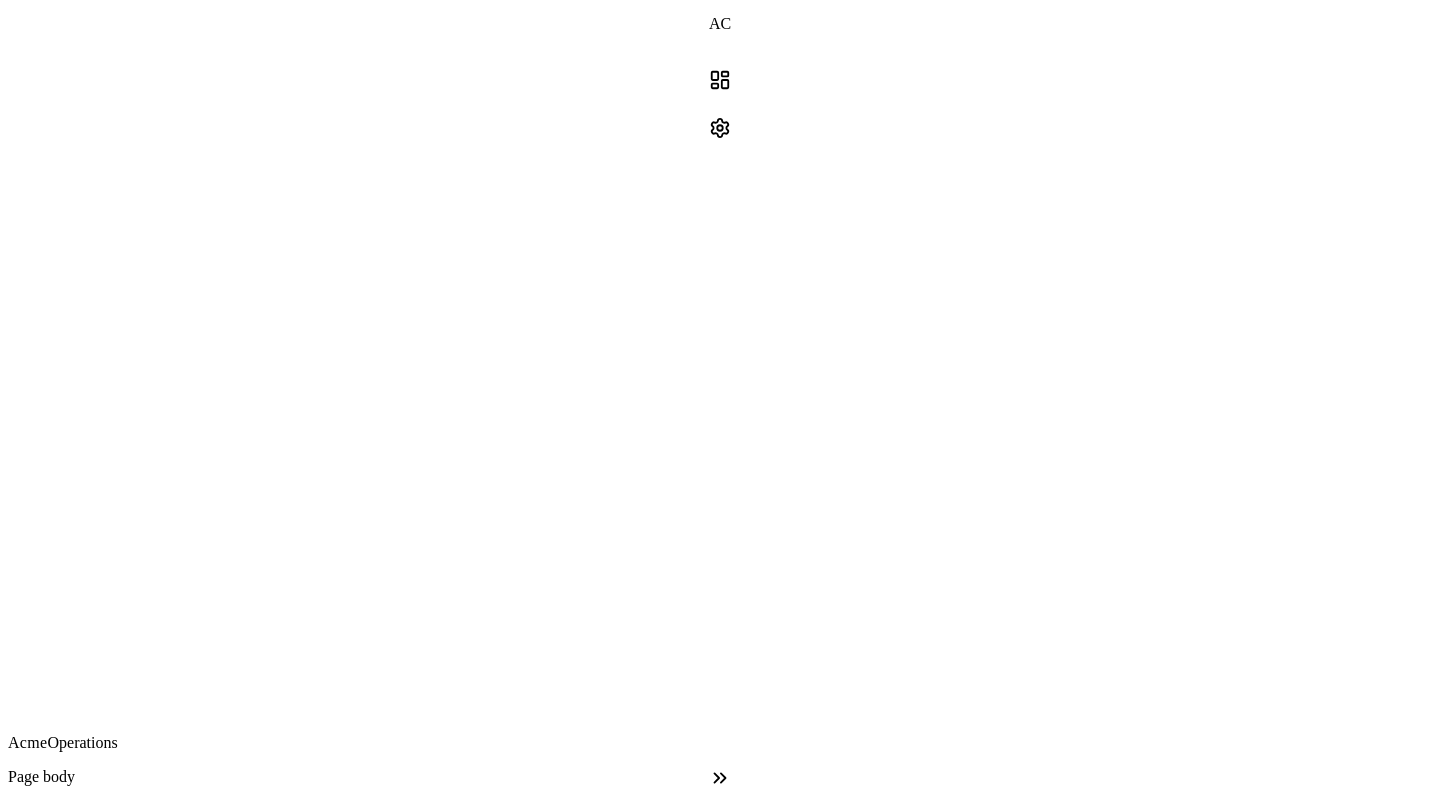
Scenario: RailShell (en) › the rail-width toggle › starts icon-only; the toggle labels the rail buttons and switches to an inline panel
(page scrolled)
Expected: the text "Planning" is not shown
Click the button named "Expand the navigation" at [720, 778], box [8,754,1432,802]
(page scrolled)
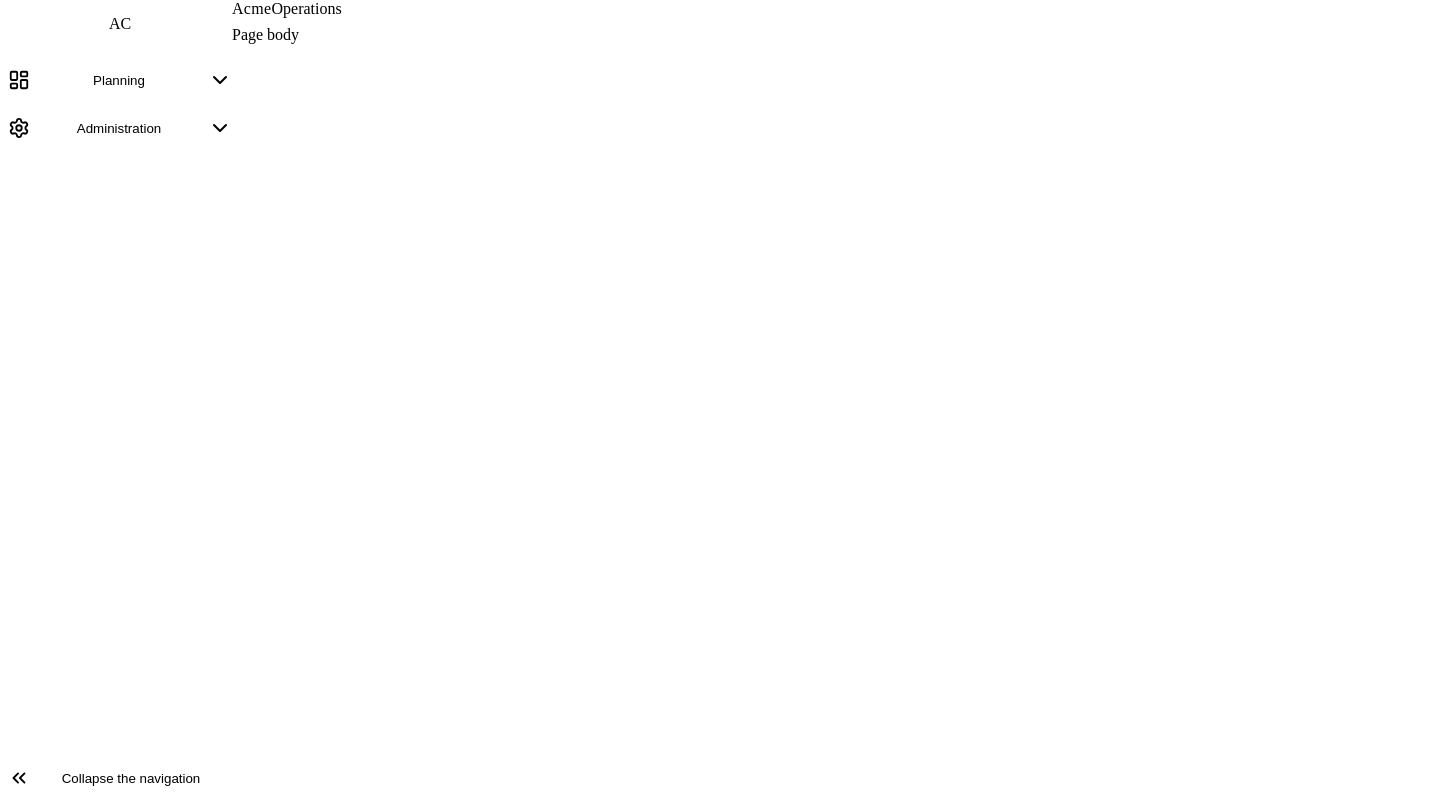
Now the text "Planning" is shown, box [93,72,145,88]
Click the button "Collapse the navigation" at [120, 778], box [8,754,232,802]
(page scrolled)
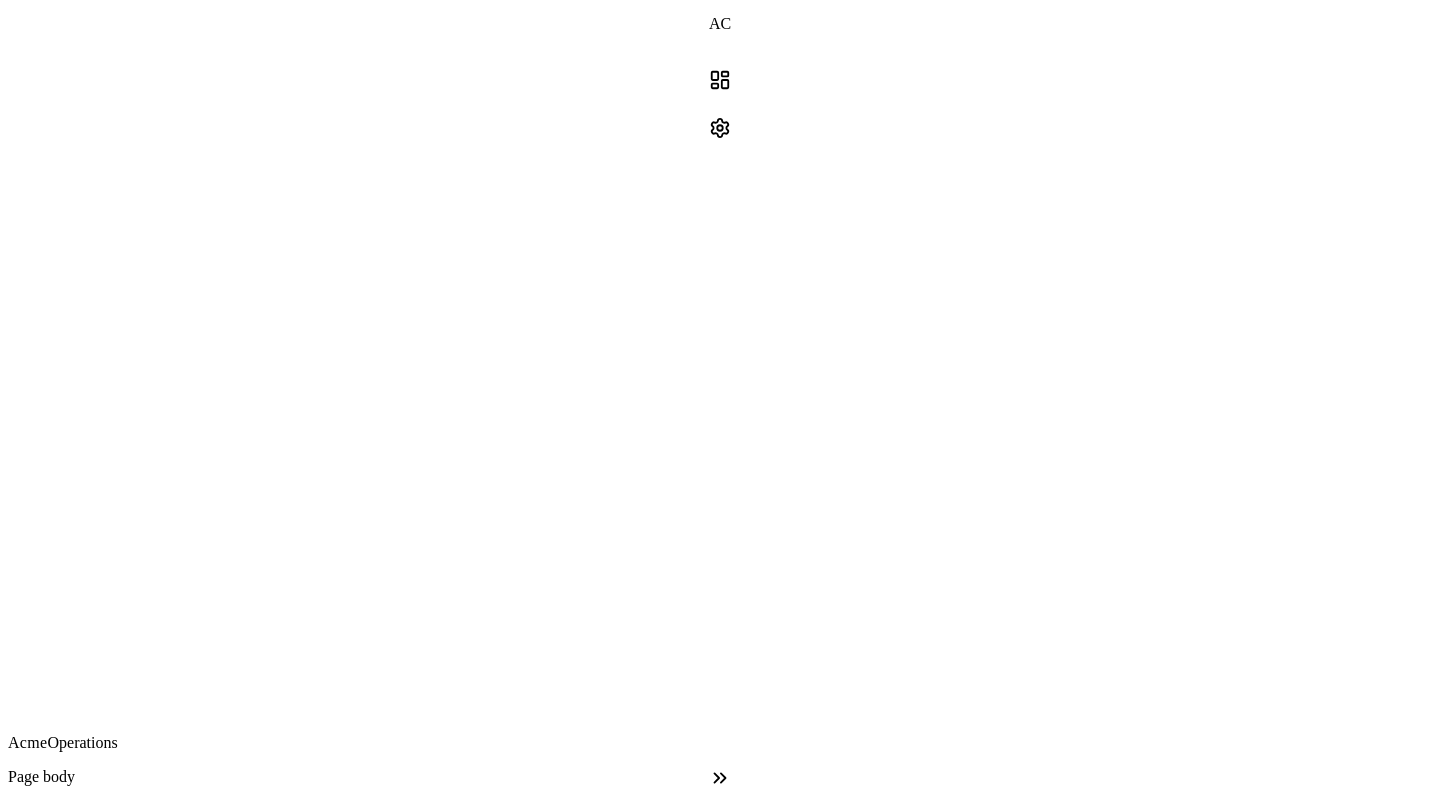
Now the text "Planning" is gone
Now the button named "Expand the navigation" is shown, box [8,754,1432,802]
